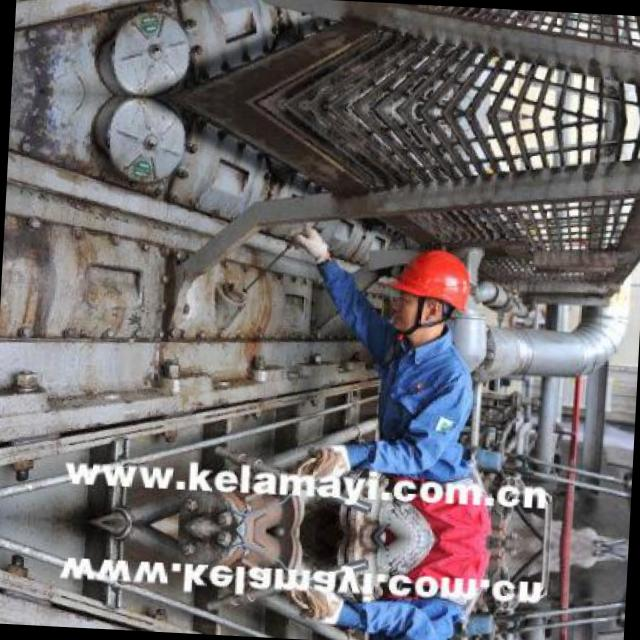helmet: (382, 240, 478, 346)
